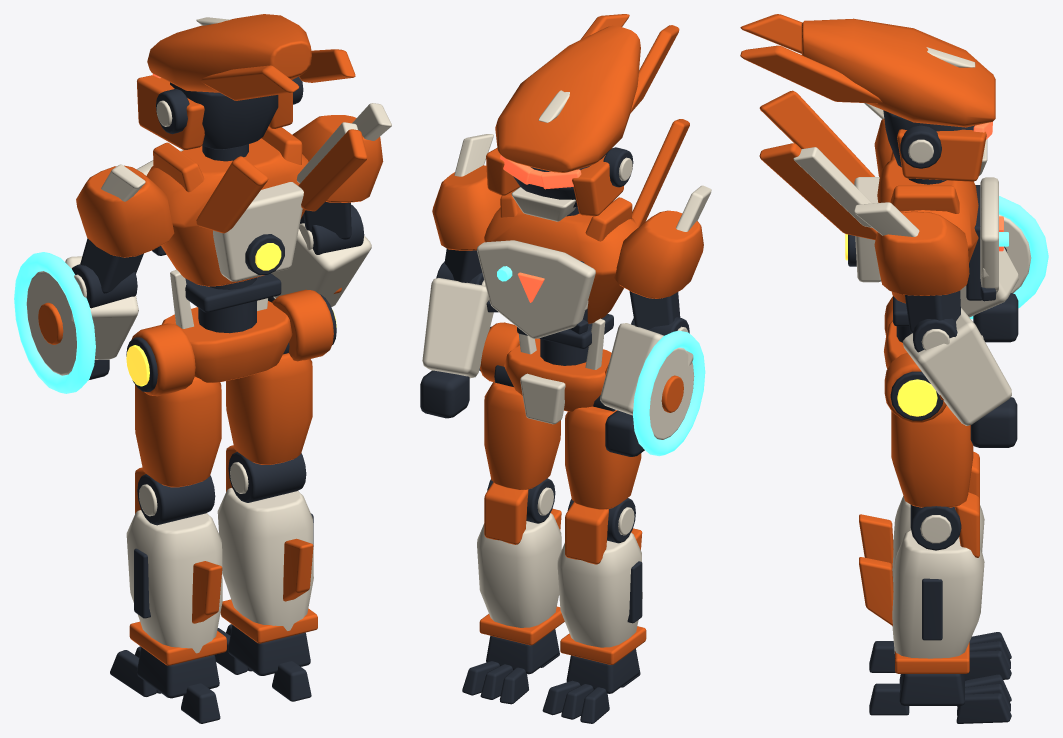
Rendered from rusher.glb.
3 views of the same model, side by side, from view 1: azimuth 30°, elevation 25°; view 2: azimuth 150°, elevation 25°; view 3: azimuth 270°, elevation 25° (orthographic). The views are drawn at different scales.
Visible parts, largest first — view 1: Torso, Helmet, LeftLeg, RightLeg, RightKneeDisc, LeftKneeDisc, LeftAnkleBlock, LeftArm, RightAnkleBlock, BackPlate, BucklerPlate, DorsalThruster (+9 smaller); view 2: Helmet, Torso, RightLeg, LeftLeg, ChestPlate, RightKneeDisc, LeftKneeDisc, RightElbowDisc, BucklerPlate, LeftArm, LeftAnkleBlock, RightAnkleBlock (+14 smaller); view 3: Helmet, RightLeg, RightKneeDisc, Torso, RightElbowDisc, RightAnkleBlock, RightArm, BackPlate, LeftFin, DorsalThruster, LeftAnkleBlock, BucklerPlate (+12 smaller).
Boxes of the visible parts, left/top/right/bottom form: Torso: left=131, top=126, right=367, bottom=396; Helmet: left=137, top=14, right=355, bottom=149; LeftLeg: left=129, top=376, right=226, bottom=665; RightLeg: left=220, top=353, right=317, bottom=643; RightKneeDisc: left=217, top=462, right=313, bottom=630; LeftKneeDisc: left=126, top=484, right=222, bottom=653; LeftAnkleBlock: left=110, top=474, right=220, bottom=723; LeftArm: left=38, top=165, right=174, bottom=344; RightAnkleBlock: left=214, top=342, right=313, bottom=701; BackPlate: left=170, top=122, right=357, bottom=328; BucklerPlate: left=26, top=164, right=145, bottom=375; DorsalThruster: left=126, top=144, right=336, bottom=391; Helmet: left=486, top=14, right=640, bottom=216; Torso: left=480, top=189, right=637, bottom=411; RightLeg: left=479, top=381, right=564, bottom=645; LeftLeg: left=560, top=406, right=646, bottom=664; ChestPlate: left=477, top=240, right=595, bottom=338; RightKneeDisc: left=477, top=487, right=561, bottom=627; LeftKneeDisc: left=557, top=507, right=642, bottom=647; RightElbowDisc: left=422, top=134, right=493, bottom=378; BucklerPlate: left=600, top=185, right=711, bottom=439; LeftArm: left=614, top=210, right=703, bottom=412; LeftAnkleBlock: left=542, top=395, right=642, bottom=723; RightAnkleBlock: left=462, top=365, right=559, bottom=704; Helmet: left=740, top=18, right=995, bottom=181; RightLeg: left=859, top=405, right=979, bottom=673; RightKneeDisc: left=892, top=515, right=984, bottom=658; Torso: left=759, top=143, right=978, bottom=422; RightElbowDisc: left=854, top=202, right=1011, bottom=425; RightAnkleBlock: left=869, top=505, right=1011, bottom=723; RightArm: left=874, top=211, right=969, bottom=400; BackPlate: left=793, top=147, right=988, bottom=338; LeftFin: left=759, top=90, right=874, bottom=184; DorsalThruster: left=848, top=178, right=996, bottom=420; LeftAnkleBlock: left=869, top=632, right=1011, bottom=680; BucklerPlate: left=864, top=103, right=1031, bottom=317.
Bounding box in the file's own units: 0.8749 × 1.98 × 0.8267.
